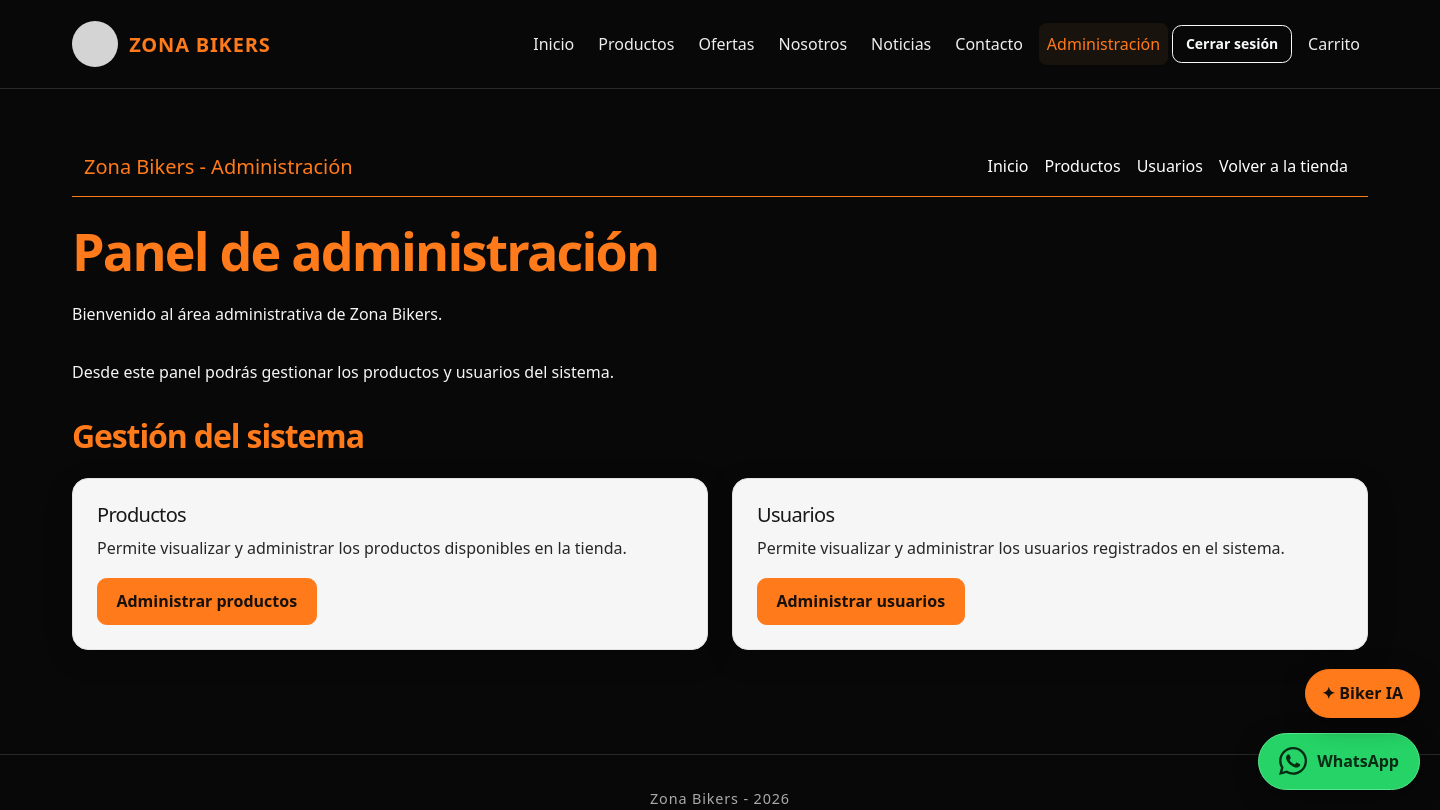
Scenario: Navegación, contenido y acceso › muestra el panel y cierra sesión
Expected: the heading "Panel de administración" is shown, 72,215 -> 658,286
Click the button "Cerrar sesión" at (1232, 44), box 1172,25 -> 1292,63
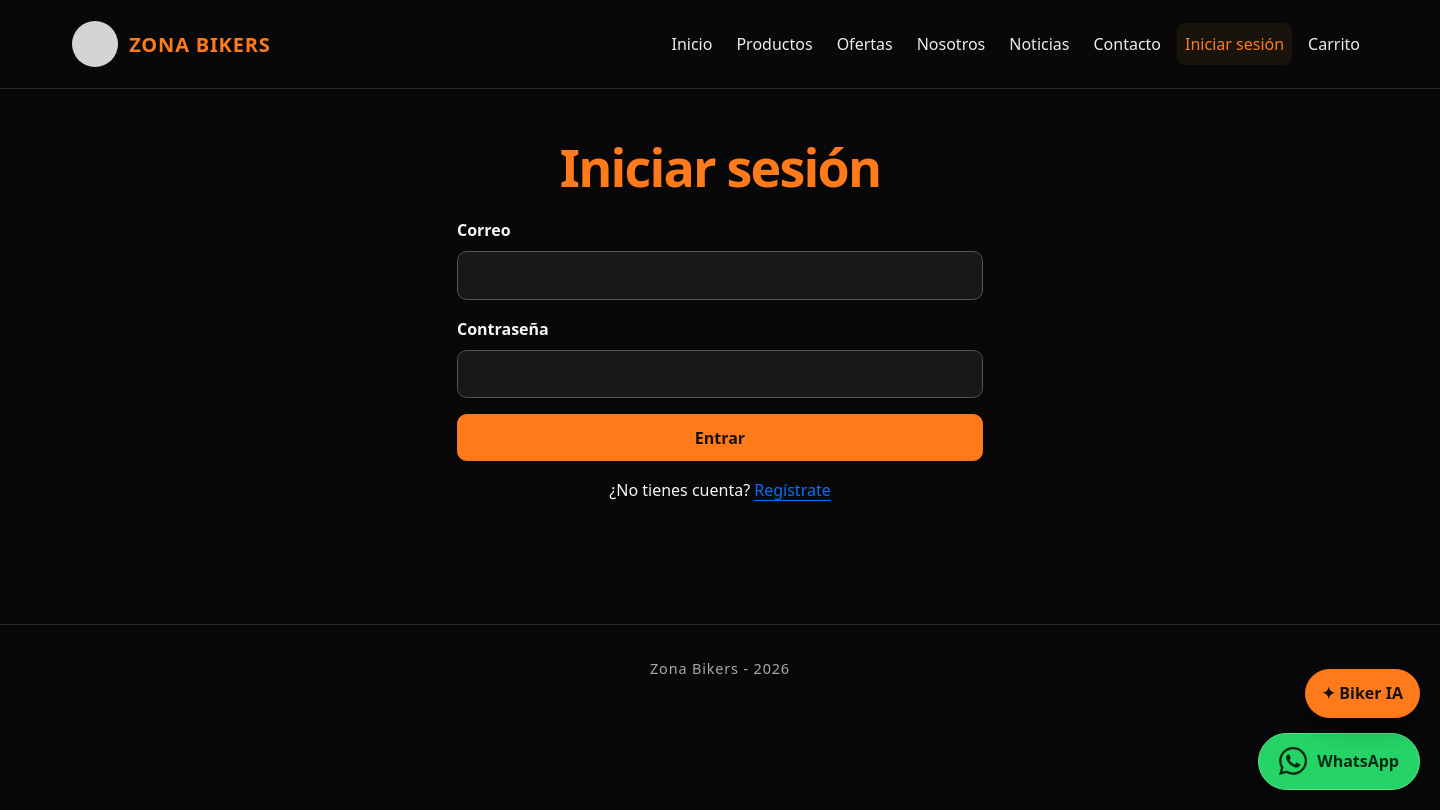
Result: the heading "Iniciar sesión" is shown at 560,131 -> 880,202
